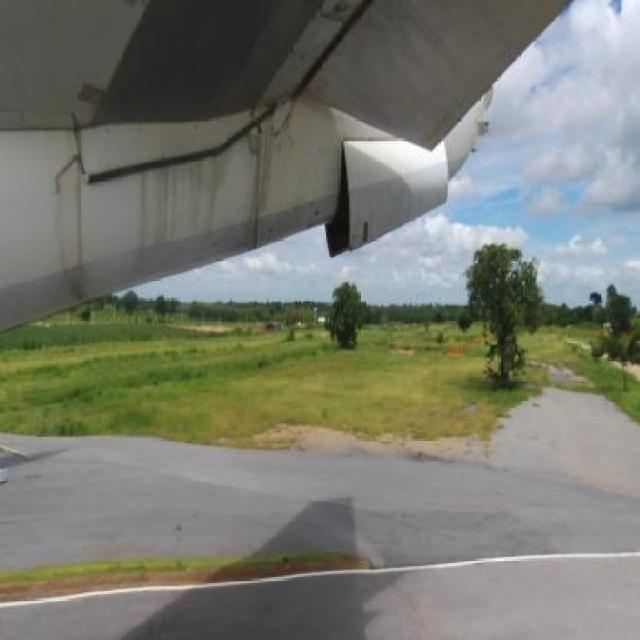Rust: (132, 140, 235, 275), (51, 144, 98, 316), (243, 118, 286, 262)
